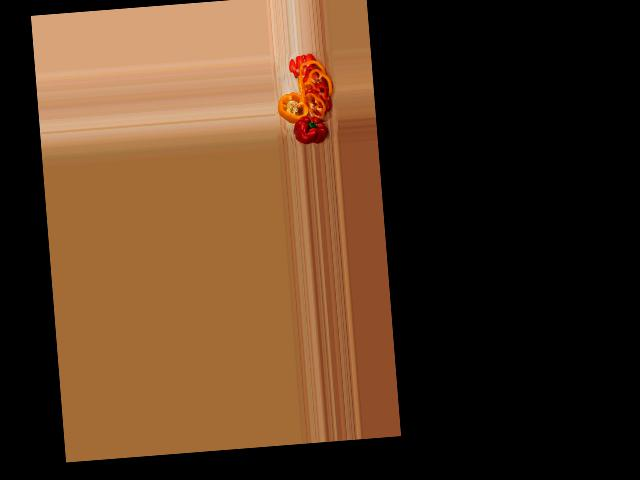bell_pepper: (275, 89, 309, 123)
